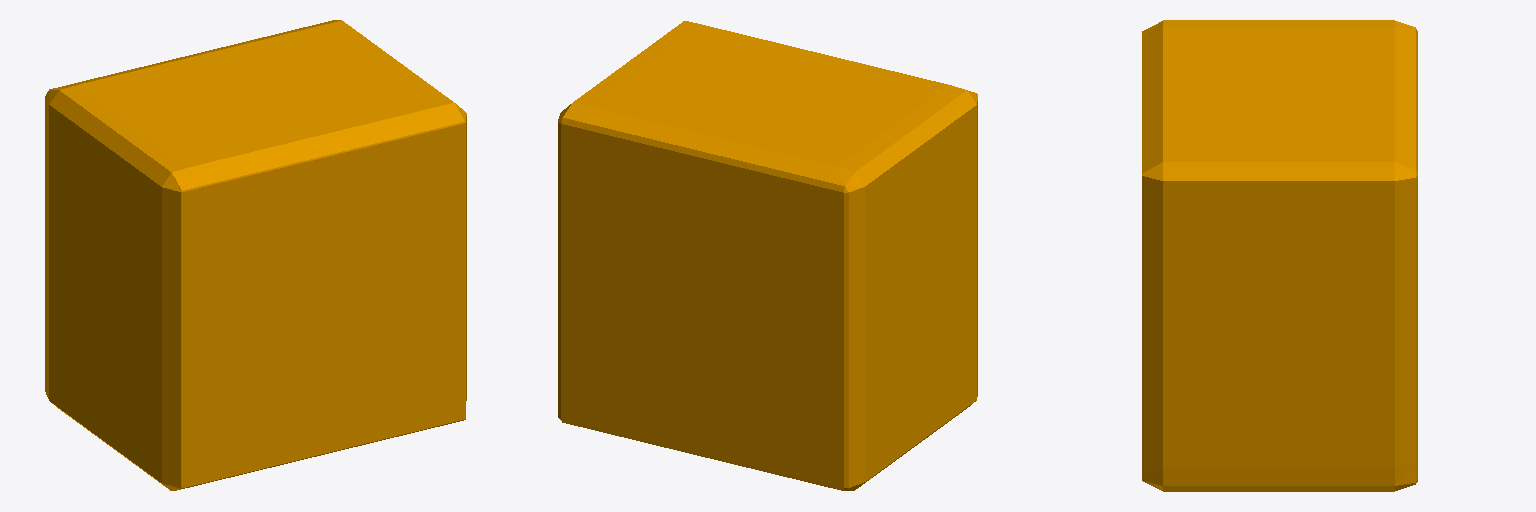
robot.urdf — cylinder_box_85:
<?xml version="1.0" encoding="utf-8"?>  <robot name="cylinder_box_85">   <link name="cylinder_box_85">     <visual>       <geometry>         <mesh filename="../meshes/box/box_85.stl" scale="1 1 1"/>       </geometry>     </visual>     <collision>       <geometry>         <mesh filename="../meshes/box/box_85.stl" scale="1 1 1"/>       </geometry>     </collision>     <inertial>        <origin         xyz="0 0 0"         rpy="0 0 0" />       <mass value="0.48410641182246766"/>       <origin rpy="0 0 0" xyz="0 0 0"/>       <inertia ixx="0.00046911394848823636" ixy="-2.460175413234589e-08" ixz="-1.0029612163271426e-07" iyy="0.0005931991378483752" iyz="-3.7052373096599895e-08" izz="0.0004672235479113962"/>     </inertial>   </link>  </robot>

--- Render facts (derived) ---
Views: 3 orthographic renders of the robot side by side, from view 1: azimuth 30°, elevation 25°; view 2: azimuth 150°, elevation 25°; view 3: azimuth 270°, elevation 25°.
Robot: cylinder_box_85 — 1 links, 0 joints (none); root link cylinder_box_85; default pose: all joints at 0.
Links seen in each view (by area): view 1: cylinder_box_85; view 2: cylinder_box_85; view 3: cylinder_box_85.
Link boxes in pixels (x1,y1,x2,y2): cylinder_box_85: (45, 20, 466, 490); cylinder_box_85: (558, 21, 977, 490); cylinder_box_85: (1142, 20, 1417, 491).
Bounding box of the posed robot: 0.0862 × 0.0657 × 0.0865 m (x, y, z).
1 mesh visuals loaded from 1 distinct referenced files (1 binary STL).